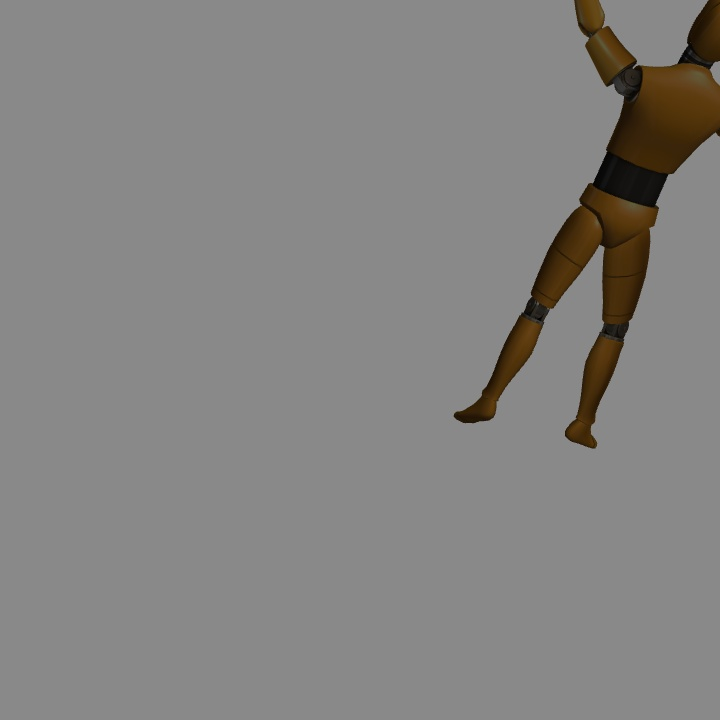victim: (458, 1, 719, 450)
